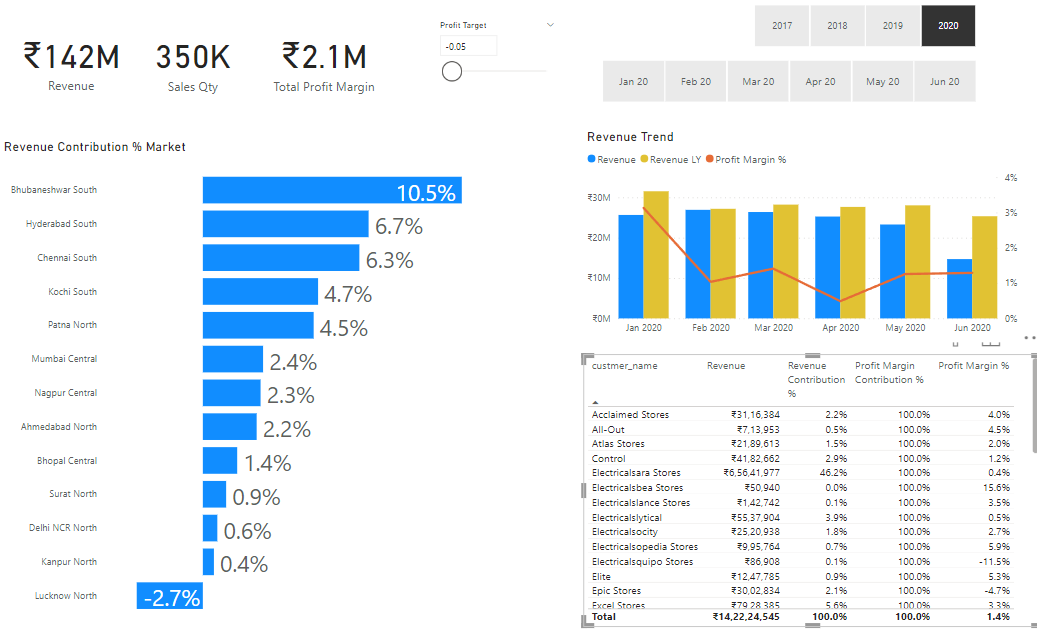

The dashboard page shown, as its layout file describes it:
{"tool":"powerbi","page":{"name":"Performance Insights","canvas":[1350,850],"ordinal":2},"visuals":[{"type":"card","fields":{"Values":["BaseMeasures (2).Revenue"]},"box":[3.9,20.7,178.3,118.3],"z":0},{"type":"card","fields":{"Values":["BaseMeasures (2).Sales Qty"]},"box":[181.7,28.3,136.7,103.3],"z":1000},{"type":"barChart","title":"Revenue Contribution % Market","fields":{"Category":["sales markets.markets_name","sales markets.zone"],"Y":["BaseMeasures (2).Profit Margin %"]},"box":[0,180,651.7,631.7],"z":3000},{"type":"slicer","fields":{"Values":["sales date.year"]},"box":[951.7,0,335,66.7],"z":4000},{"type":"slicer","fields":{"Values":["sales date.cy_date"]},"box":[755,71.7,531.7,66.7],"z":5000},{"type":"tableEx","title":"Top 5 Customers","fields":{"Values":["sales customers.custmer_name","BaseMeasures (2).Revenue","BaseMeasures (2).Revenue Contribution %","BaseMeasures (2).Profit Margin Contribution %","BaseMeasures (2).Profit Margin %"]},"box":[755,458.3,595,353.3],"z":6000},{"type":"lineClusteredColumnComboChart","title":"Revenue Trend","fields":{"Category":["sales date.cy_date"],"Y":["BaseMeasures (2).Revenue","BaseMeasures (2).Revenue LY"],"Y2":["BaseMeasures (2).Profit Margin %"]},"box":[755,166.7,568.3,276.7],"z":7000},{"type":"card","fields":{"Values":["BaseMeasures (2).Total Profit Margin"]},"box":[341.7,28.3,156.7,103.3],"z":8000},{"type":"slicer","fields":{"Values":["Profit Target.Profit Target"]},"box":[556.7,21.7,173.3,110],"z":8001}]}

Visuals, with their boxes in screenshot pixels (x1, y1, x2, y2), scaled from the page's 1350x850 canvas onto the 1037x642 screenshot:
card - BaseMeasures (2).Revenue: bbox=(3, 16, 140, 105)
card - BaseMeasures (2).Sales Qty: bbox=(140, 21, 245, 99)
"Revenue Contribution % Market" barChart: bbox=(0, 136, 501, 613)
slicer - sales date.year: bbox=(731, 0, 988, 50)
slicer - sales date.cy_date: bbox=(580, 54, 988, 105)
"Top 5 Customers" tableEx: bbox=(580, 346, 1036, 613)
"Revenue Trend" lineClusteredColumnComboChart: bbox=(580, 126, 1016, 335)
card - BaseMeasures (2).Total Profit Margin: bbox=(262, 21, 383, 99)
slicer - Profit Target.Profit Target: bbox=(428, 16, 561, 99)
